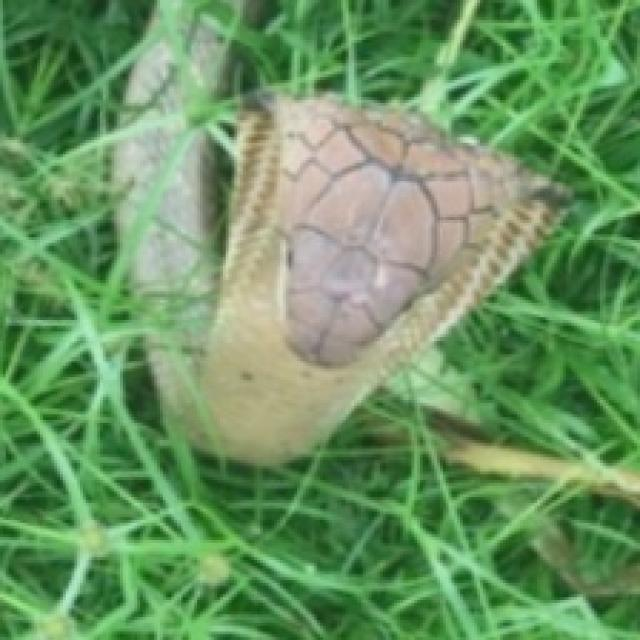king cobra: (114, 20, 566, 463)
